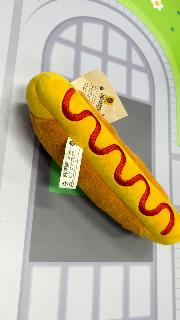hotdog: (26, 72, 180, 246)
